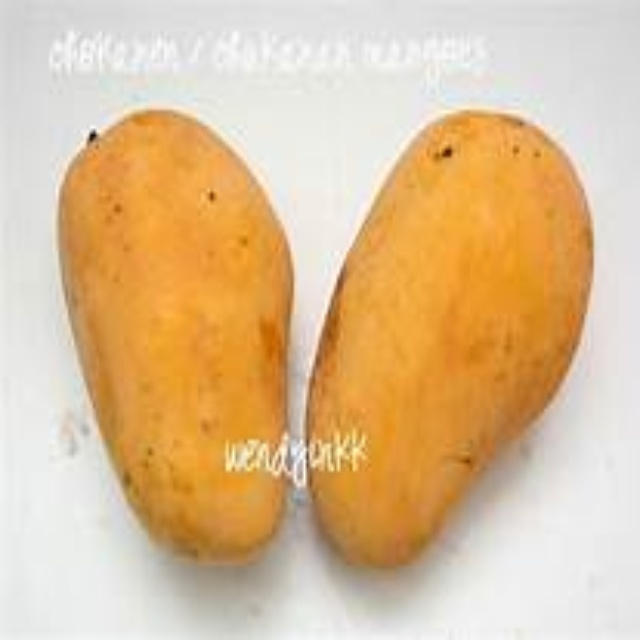mango: (307, 101, 596, 579), (51, 104, 293, 570)
